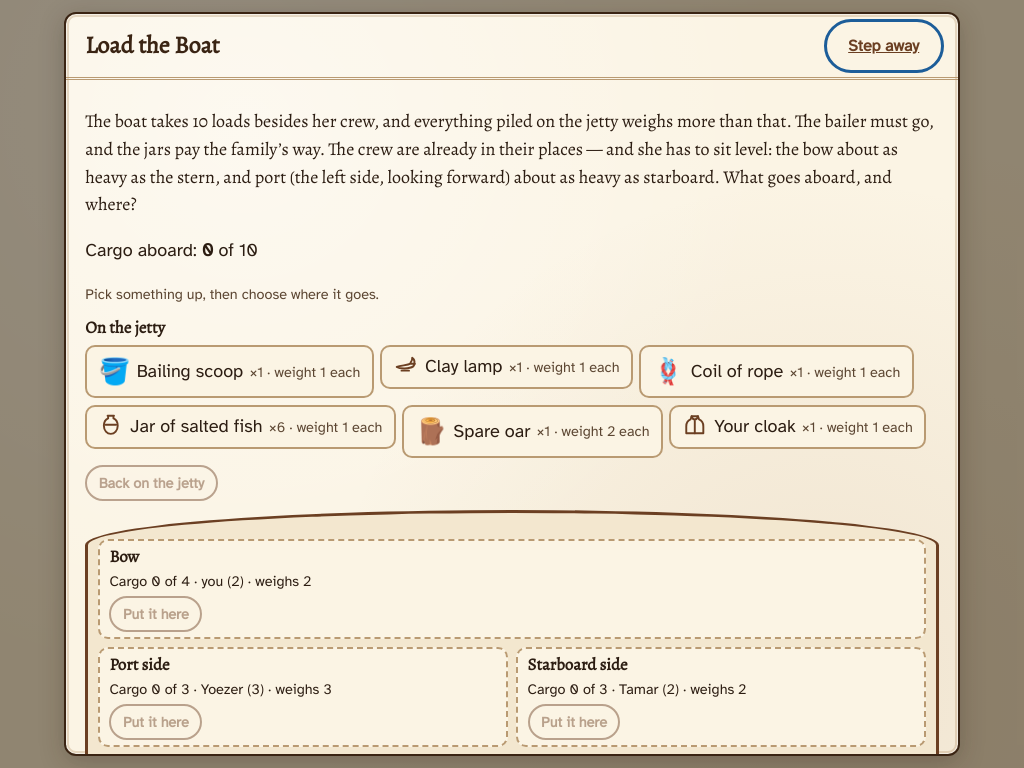
Test: Trim puzzle (Chapter 2: load the boat) › explains why a lopsided load fails
The image size is (1024, 768).
Click the button "🪣 Bailing scoop ×1 · weight 1 each".
click(229, 372)  # box 85,345 -> 374,398
(page scrolled)
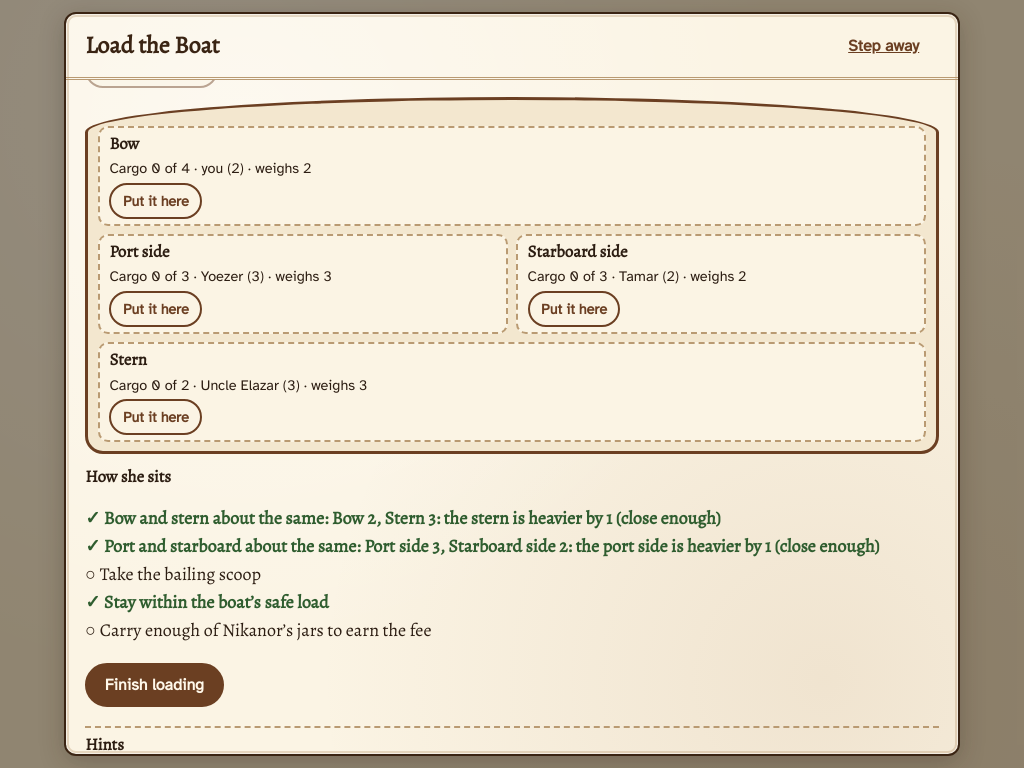
Click the button with aria-label "in the stern".
click(156, 417)  # box 109,399 -> 202,435
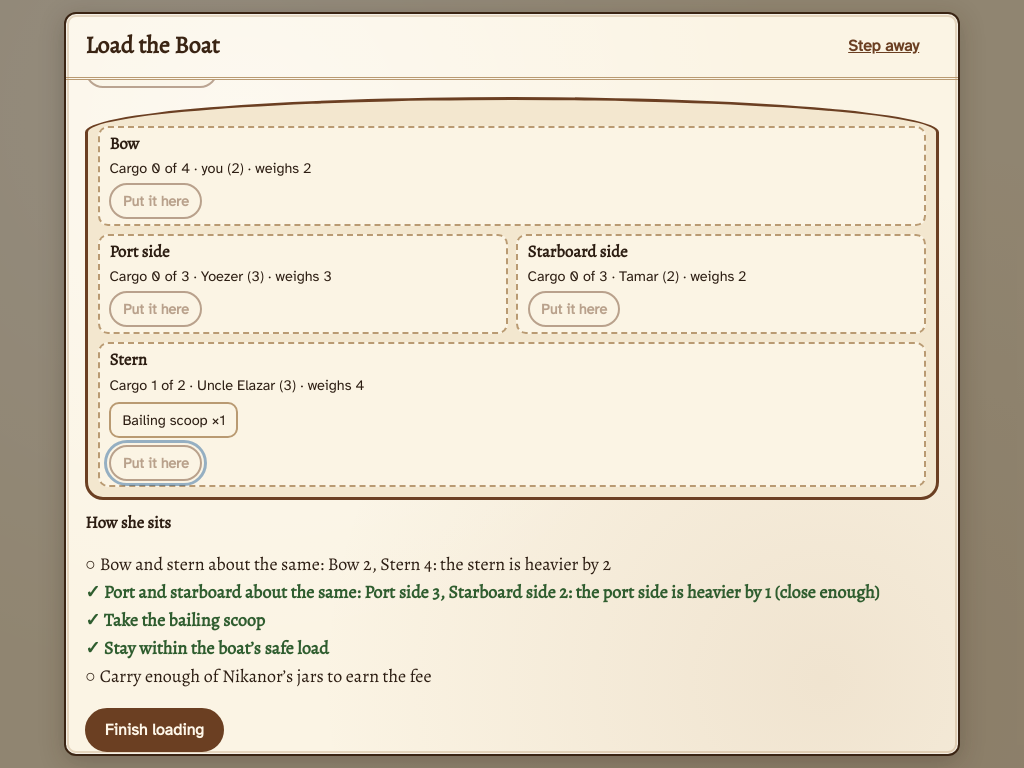
Click the button "Finish loading".
click(154, 730)  # box 85,708 -> 224,752
(page scrolled)
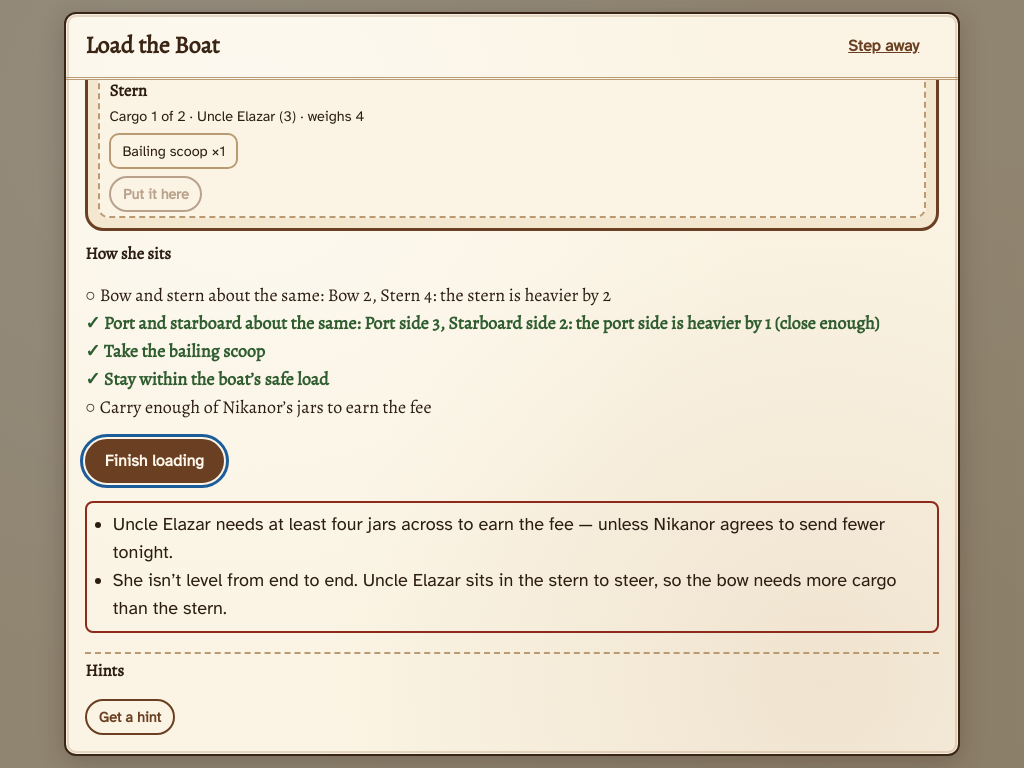
Now the list item "Uncle Elazar sits in the stern to steer" is shown, box 113,569 -> 897,619
Now the list item "at least four jars" is shown, box 113,513 -> 885,563
